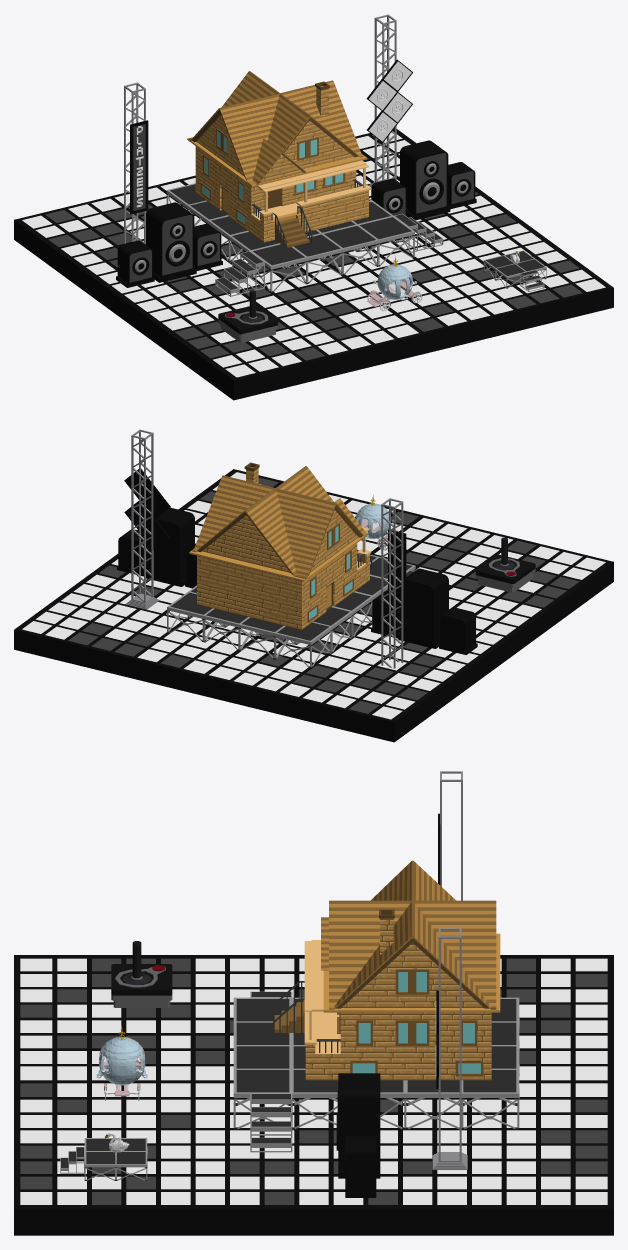
3 renders of one model, top to bottom at view 1: azimuth 30°, elevation 25°; view 2: azimuth 150°, elevation 25°; view 3: azimuth 270°, elevation 25°, orthographic. The views are drawn at different scales.
Visible parts, largest first — view 1: Cube.008, Cube.508, OBJRANDOM_JOYSTICK, VEHICLES_FANTASY_CARRIAGE; view 2: Cube.008, Cube.508, OBJRANDOM_JOYSTICK, VEHICLES_FANTASY_CARRIAGE; view 3: Cube.008, Cube.508, OBJRANDOM_JOYSTICK, VEHICLES_FANTASY_CARRIAGE.
Part boxes in pixels (x1=…): Cube.008: x1=14, y1=14, x2=613, y2=400; Cube.508: x1=187, y1=71, x2=371, y2=248; OBJRANDOM_JOYSTICK: x1=218, y1=290, x2=278, y2=342; VEHICLES_FANTASY_CARRIAGE: x1=367, y1=255, x2=422, y2=311; Cube.008: x1=14, y1=429, x2=613, y2=742; Cube.508: x1=189, y1=462, x2=372, y2=629; OBJRANDOM_JOYSTICK: x1=475, y1=537, x2=535, y2=592; VEHICLES_FANTASY_CARRIAGE: x1=355, y1=494, x2=397, y2=550; Cube.008: x1=14, y1=771, x2=613, y2=1235; Cube.508: x1=272, y1=860, x2=500, y2=1080; OBJRANDOM_JOYSTICK: x1=111, y1=941, x2=172, y2=1007; VEHICLES_FANTASY_CARRIAGE: x1=96, y1=1025, x2=147, y2=1100.
Size of the model in its own units: 4000 by 1945 by 4000.
37 materials, 2 textured.
